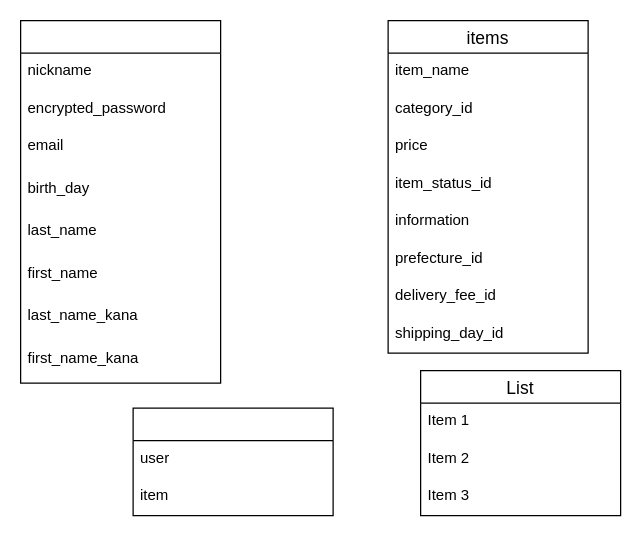
This 641x536 diagram has some shape labels left out. Each missing label, with the box of its shape:
purchases: (132, 407, 333, 516)
users: (19, 19, 221, 383)
